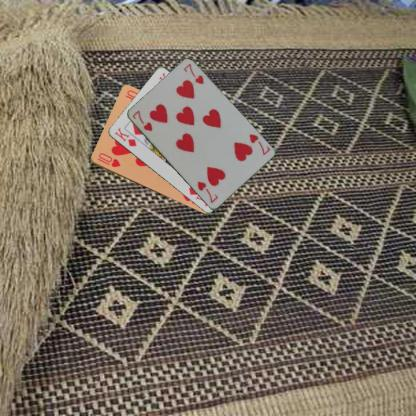10h: (95, 150, 121, 169)
7h: (247, 131, 271, 157), (130, 108, 153, 132)
Kd: (112, 125, 138, 148)
